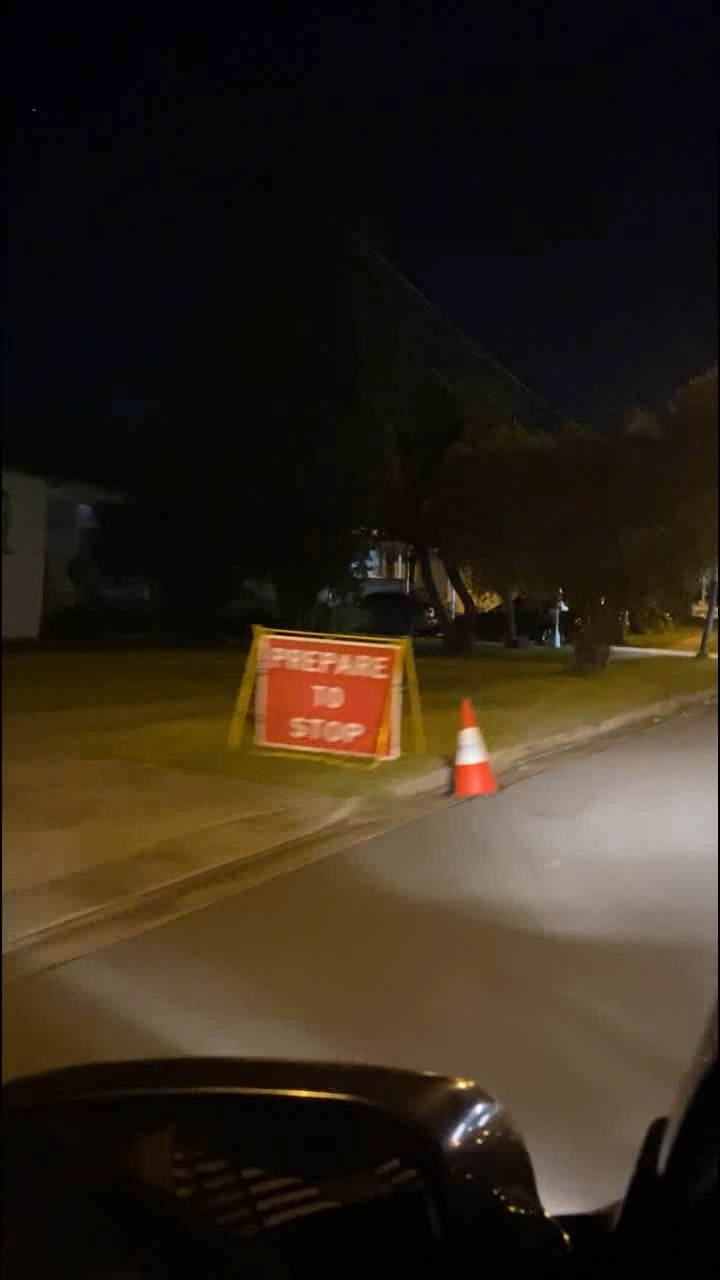prepare to stop board: (230, 625, 423, 772)
road cone: (447, 700, 497, 803)
